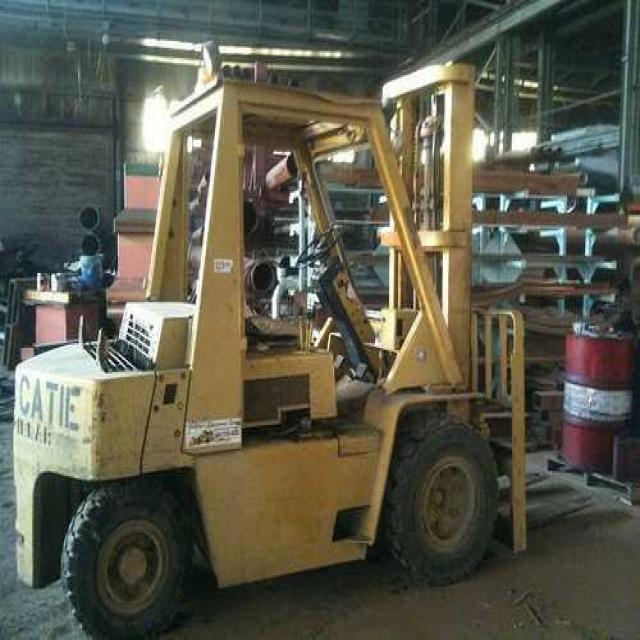forklift: (17, 62, 595, 639)
